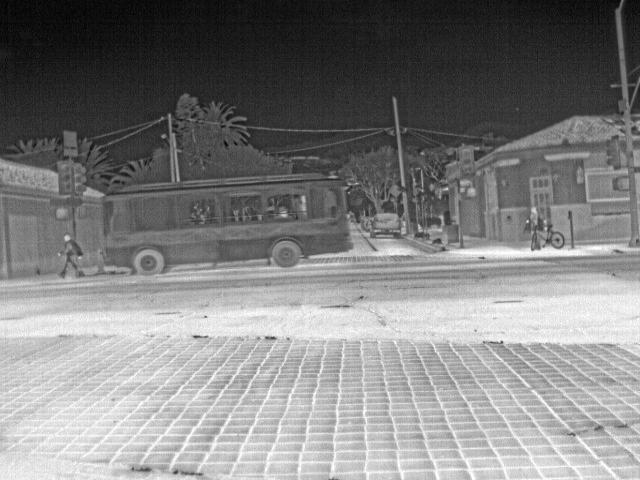car: (372, 212, 403, 241), (359, 216, 371, 232)
person: (57, 234, 85, 280), (527, 206, 541, 231)
